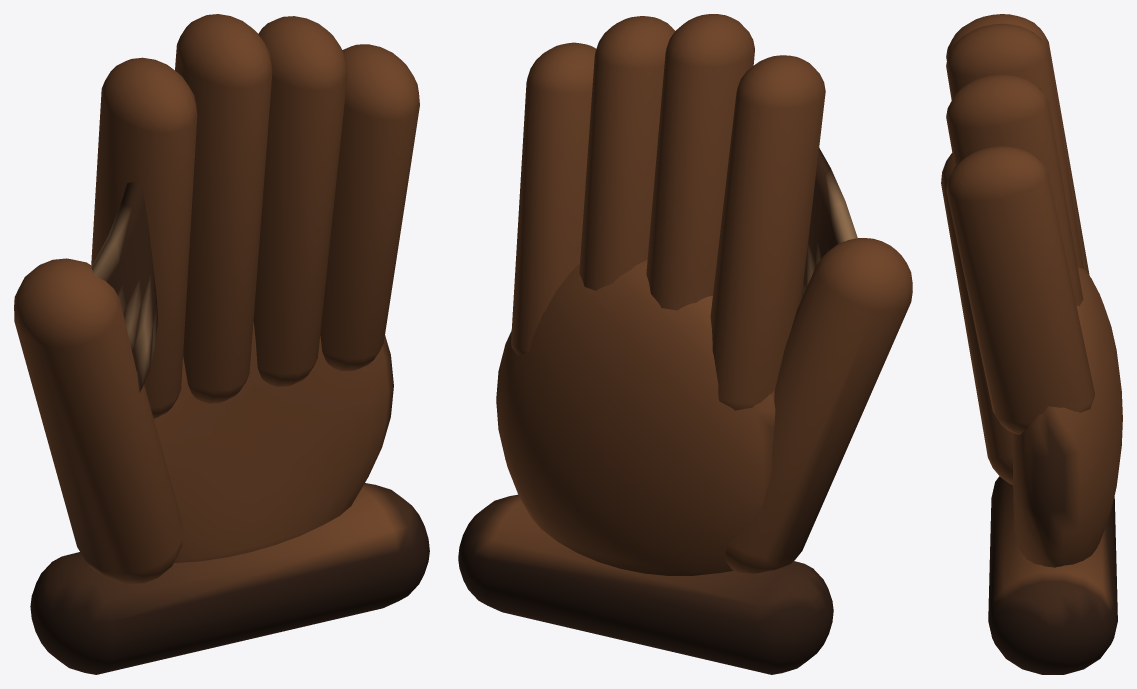
File: glove.glb
3 renders of one model, left to right at view 1: azimuth 30°, elevation 25°; view 2: azimuth 150°, elevation 25°; view 3: azimuth 270°, elevation 25°, orthographic. The views are drawn at different scales.
Visible parts, largest first — view 1: glove; view 2: glove; view 3: glove.
Part boxes in pixels (x1,y1,x2,y2): glove: (14, 14, 429, 674); glove: (458, 14, 912, 674); glove: (941, 14, 1122, 674).
Bounding box in the file's own units: 0.176 × 0.2516 × 0.0729.
